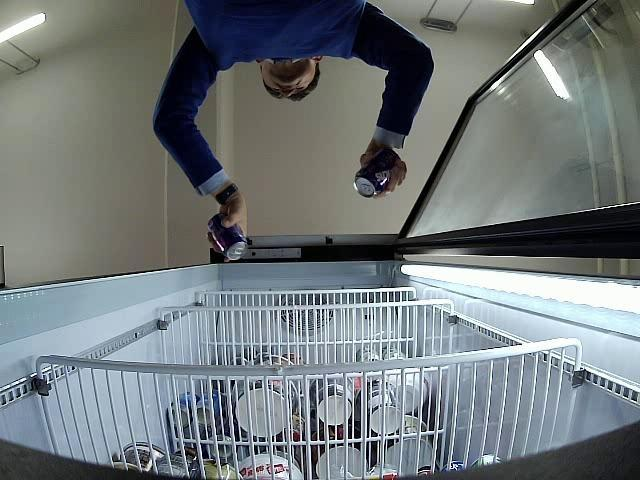14_welchsGrape: (354, 149, 400, 198), (208, 213, 248, 260)
